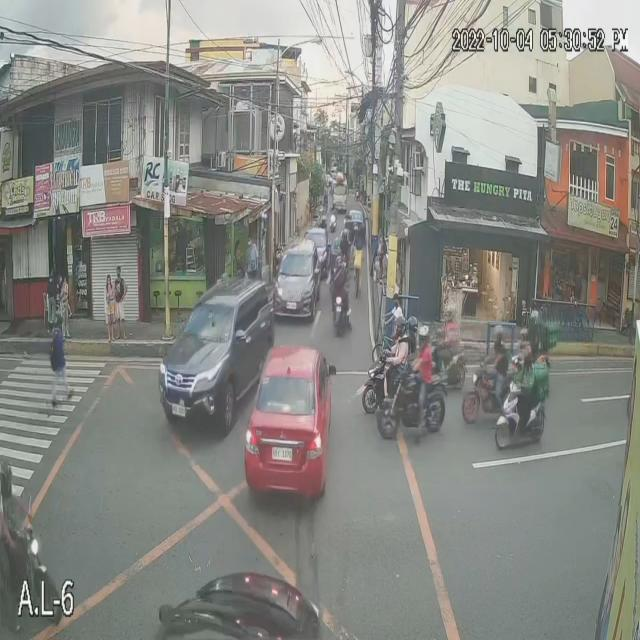Full-Faced: (328, 270, 342, 292), (452, 302, 465, 324), (328, 246, 342, 264), (519, 348, 531, 365), (425, 326, 435, 344), (492, 324, 503, 340), (408, 318, 418, 332), (530, 309, 540, 323), (395, 318, 406, 330)
Half-Faced: (338, 218, 352, 244)
Not-Wearing-Helmet: (354, 234, 364, 256)
